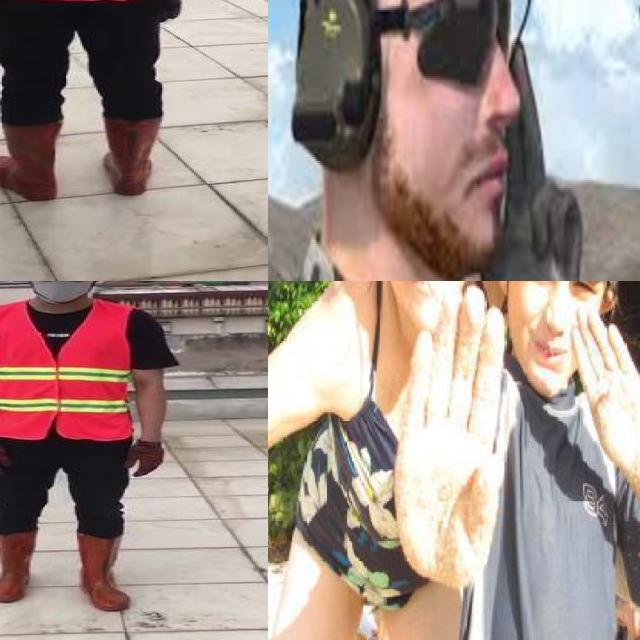Ear-protection: (290, 0, 515, 281)
boots: (102, 115, 164, 197), (0, 123, 62, 201), (74, 531, 132, 613), (0, 529, 40, 604)
face_mask: (26, 281, 97, 302)
face_nomask: (522, 281, 600, 366)
hand_glove: (124, 439, 162, 478), (153, 0, 181, 22), (0, 440, 12, 478)
hand_noglove: (387, 287, 514, 595), (561, 305, 640, 485)
person: (432, 281, 640, 640), (302, 281, 493, 640), (0, 281, 175, 618), (0, 0, 218, 203)
vest: (0, 300, 133, 442)
